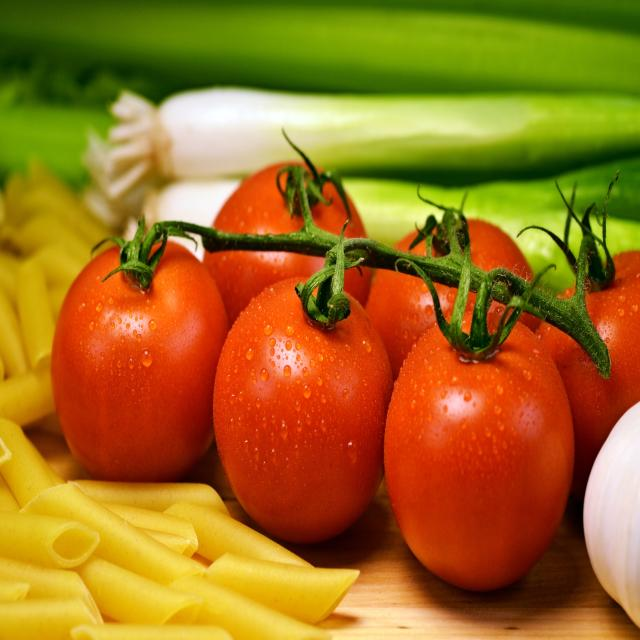Tomato: (388, 252, 580, 587), (210, 242, 394, 534), (55, 232, 223, 482)
